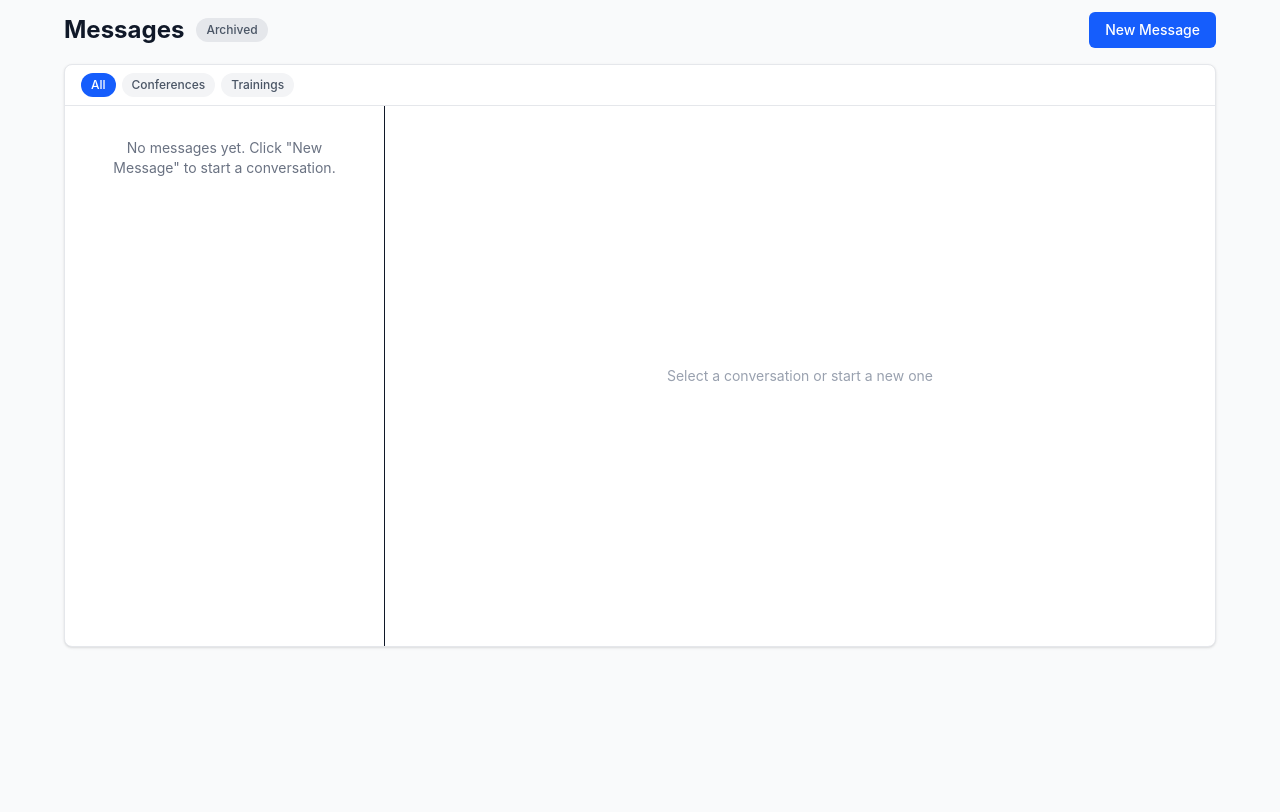
Scenario: MessagesPage › archive toggle › switches to archived view when the Archived button is clicked
The image size is (1280, 812).
Step 1. Click the button "Archived" → (232, 30), box [196,18,268,42]
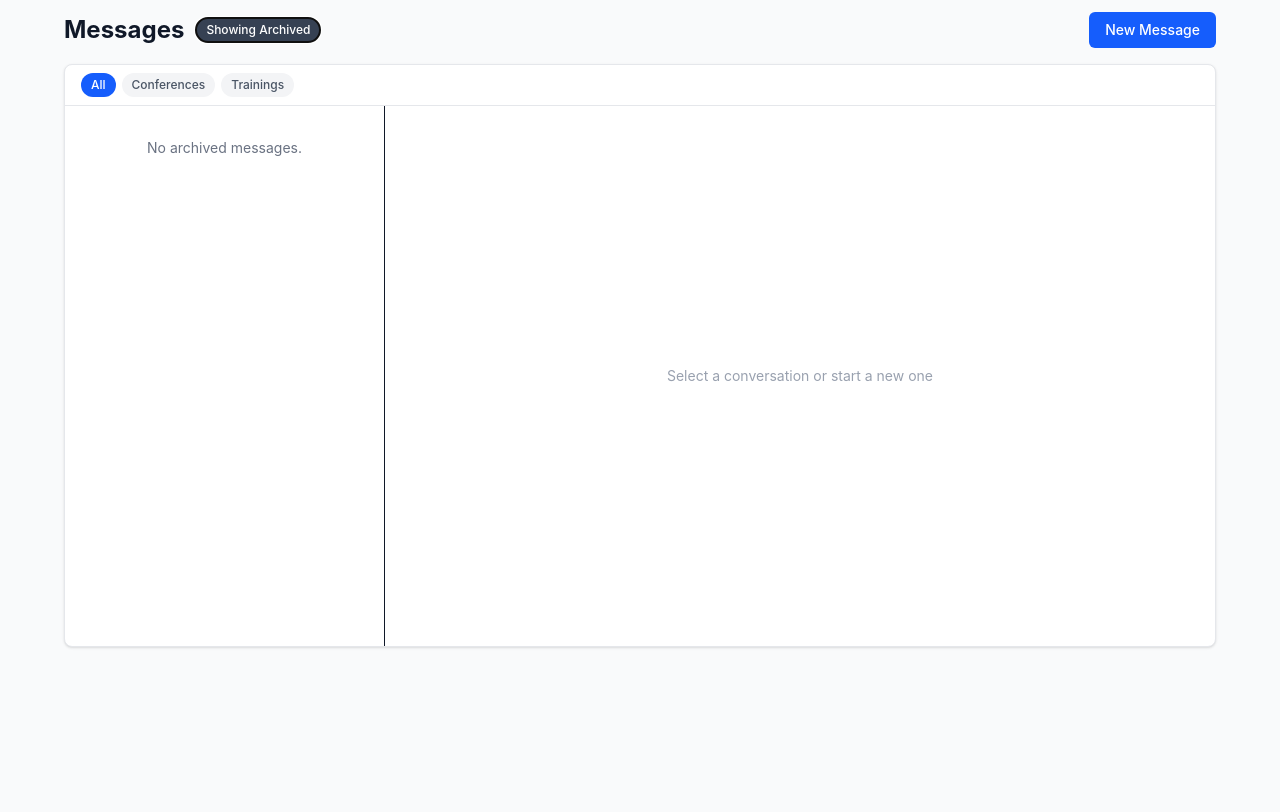
Result: the button "Showing Archived" is shown at [196,18,320,42]
